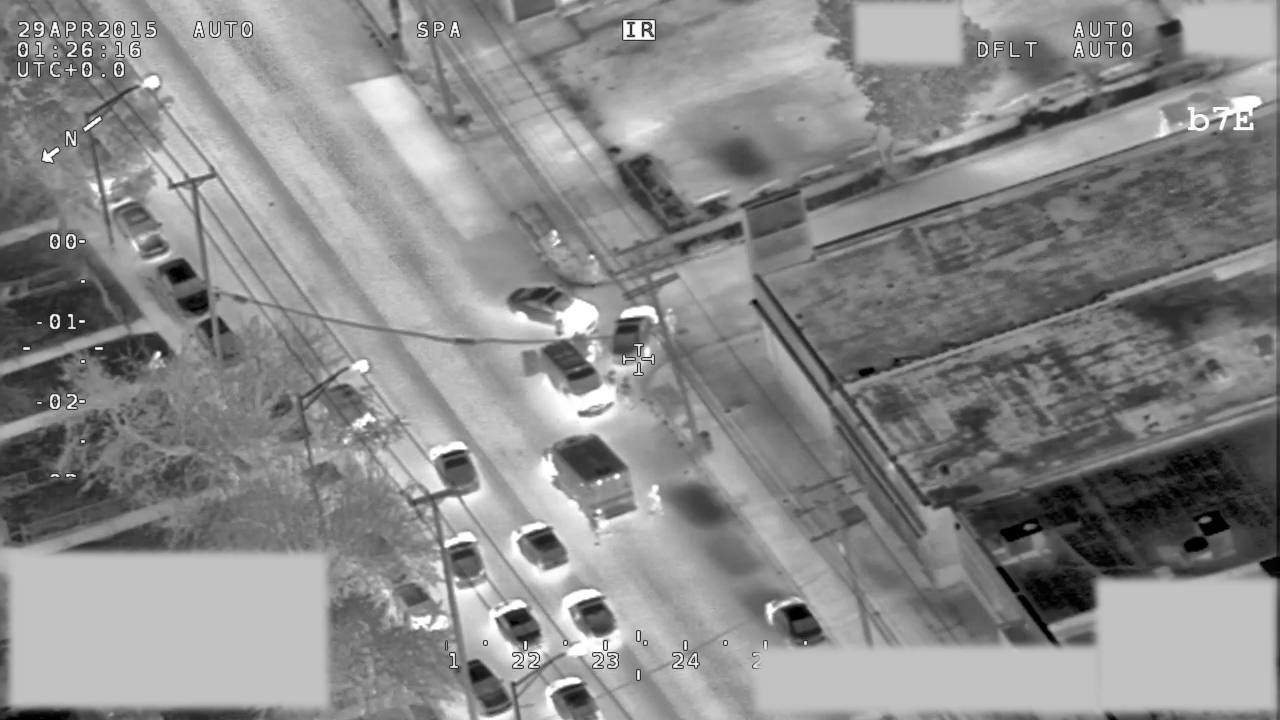vehicle: (542, 431, 642, 518), (517, 337, 621, 419), (373, 563, 456, 651), (503, 280, 603, 341), (57, 133, 136, 210), (310, 376, 384, 446), (558, 582, 624, 648), (111, 199, 172, 264), (759, 591, 831, 646), (156, 258, 217, 321), (422, 440, 486, 500), (610, 298, 664, 369), (453, 658, 517, 717), (486, 594, 545, 656), (190, 315, 248, 374), (436, 532, 492, 591), (510, 519, 571, 572), (544, 670, 605, 720)
